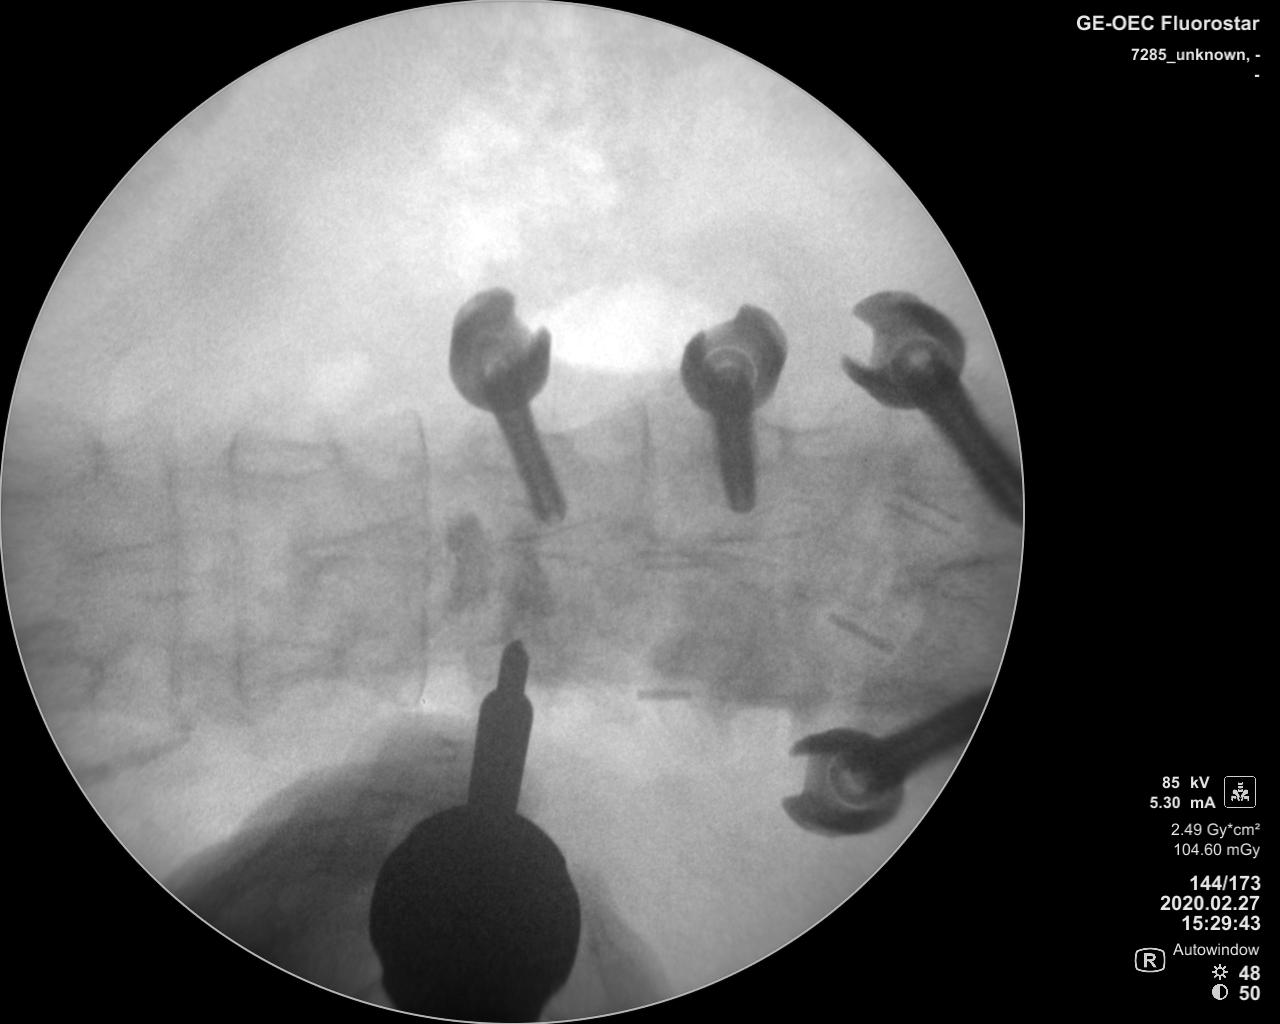eyes: (6, 419, 106, 499), (227, 433, 346, 483), (233, 643, 341, 684), (27, 649, 106, 702)
line: (156, 450, 192, 731), (224, 430, 252, 719), (409, 401, 435, 709)
nose: (292, 511, 437, 574), (88, 530, 247, 583), (492, 520, 657, 567)
